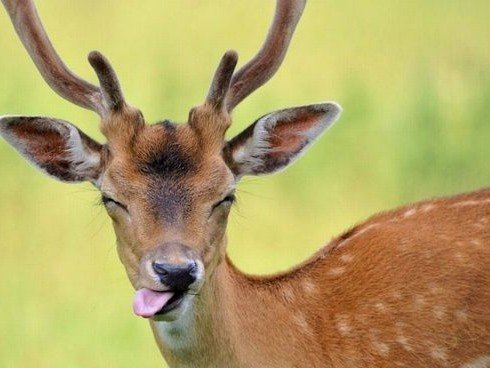Deer: (1, 1, 486, 368)
